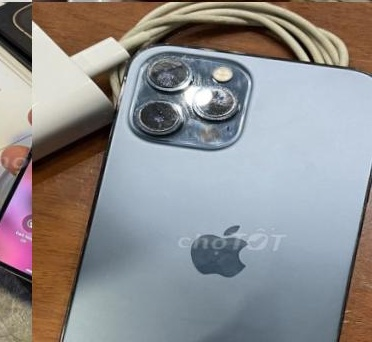scratch: (128, 34, 251, 158)
